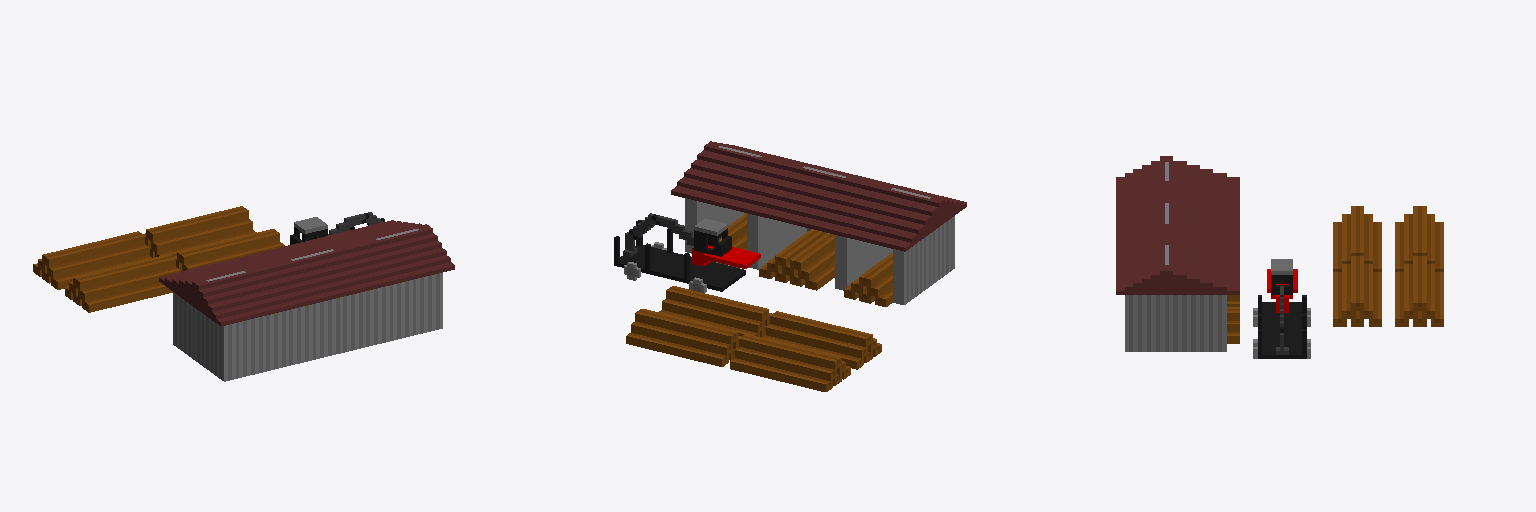
The picture shows the model from 3 angles: view 1: azimuth 30°, elevation 25°; view 2: azimuth 150°, elevation 25°; view 3: azimuth 270°, elevation 25°; orthographic projection.
Visible parts, largest first — view 1: object 1; view 2: object 1; view 3: object 1.
Part boxes in pixels (bbox=[...]): object 1: bbox=[33, 206, 454, 381]; object 1: bbox=[614, 141, 966, 391]; object 1: bbox=[1116, 156, 1443, 358].
Bounding box in the file's own units: 7.3 × 2.1 × 7.4.
1 materials, 1 textured.